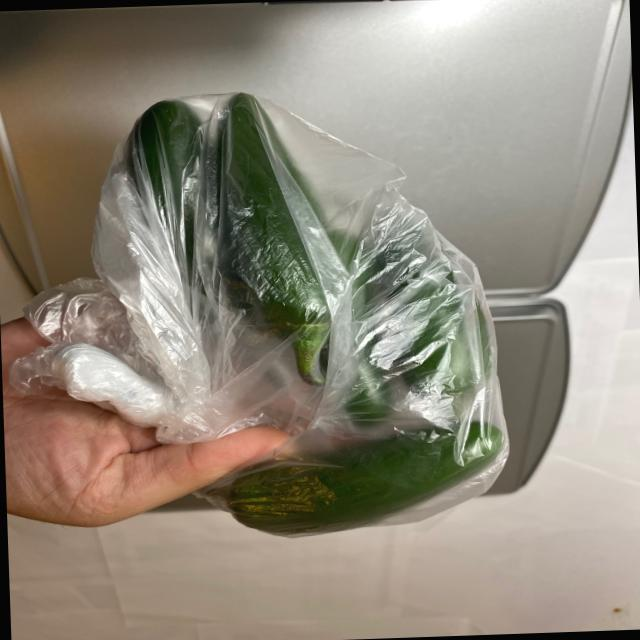chilli: (119, 77, 524, 542)
